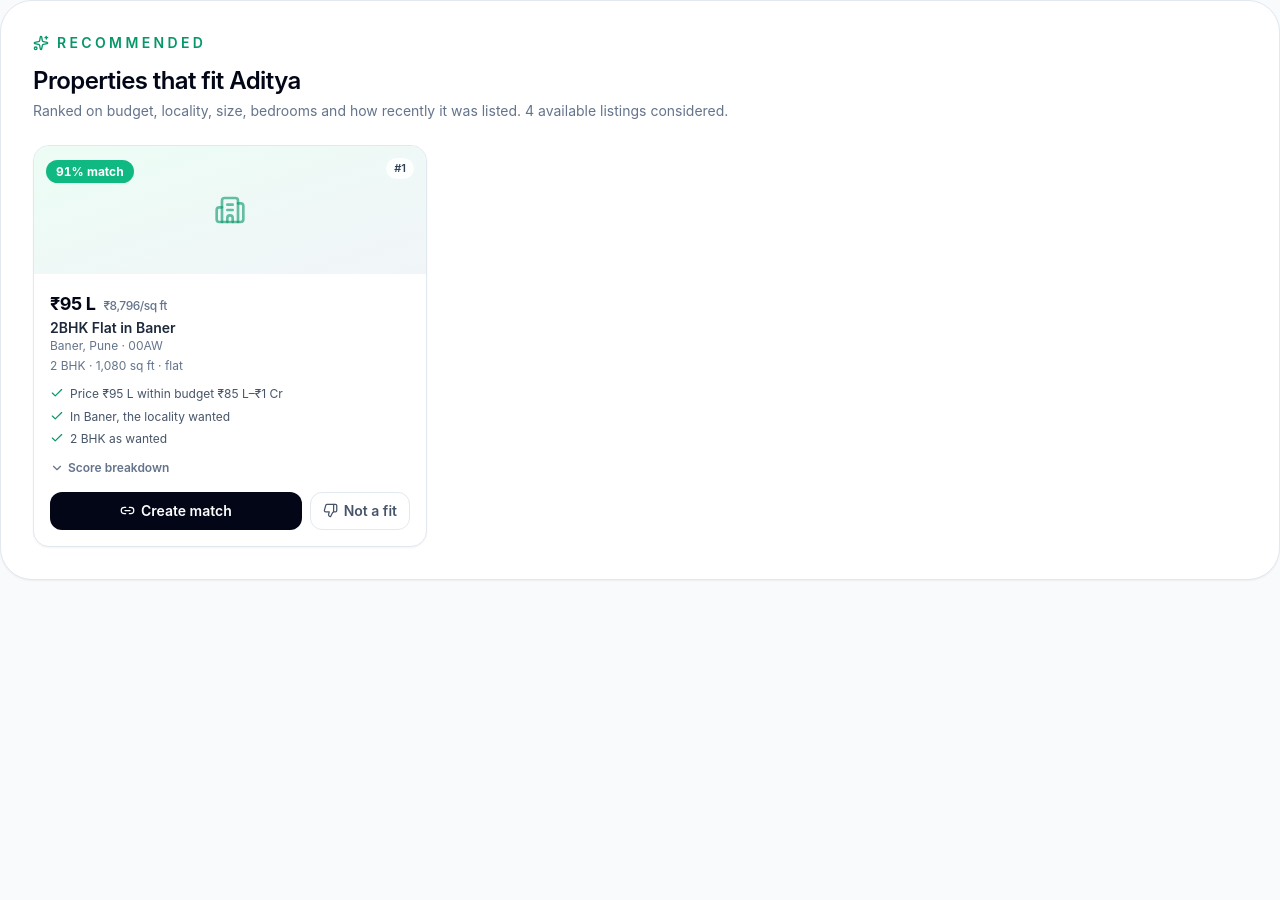
it: recommendations panel › shows the match score, price and the top reasons; details on demand
Expected: the text "91% match" is shown, [46,160,134,183]
Expected: the text "₹95 L" is shown, [50,293,95,314]
What coordinates should you click on to do the following:
click the button "Score breakdown"
I would click on:
 (110, 468)
Its box is [50,460,169,476].
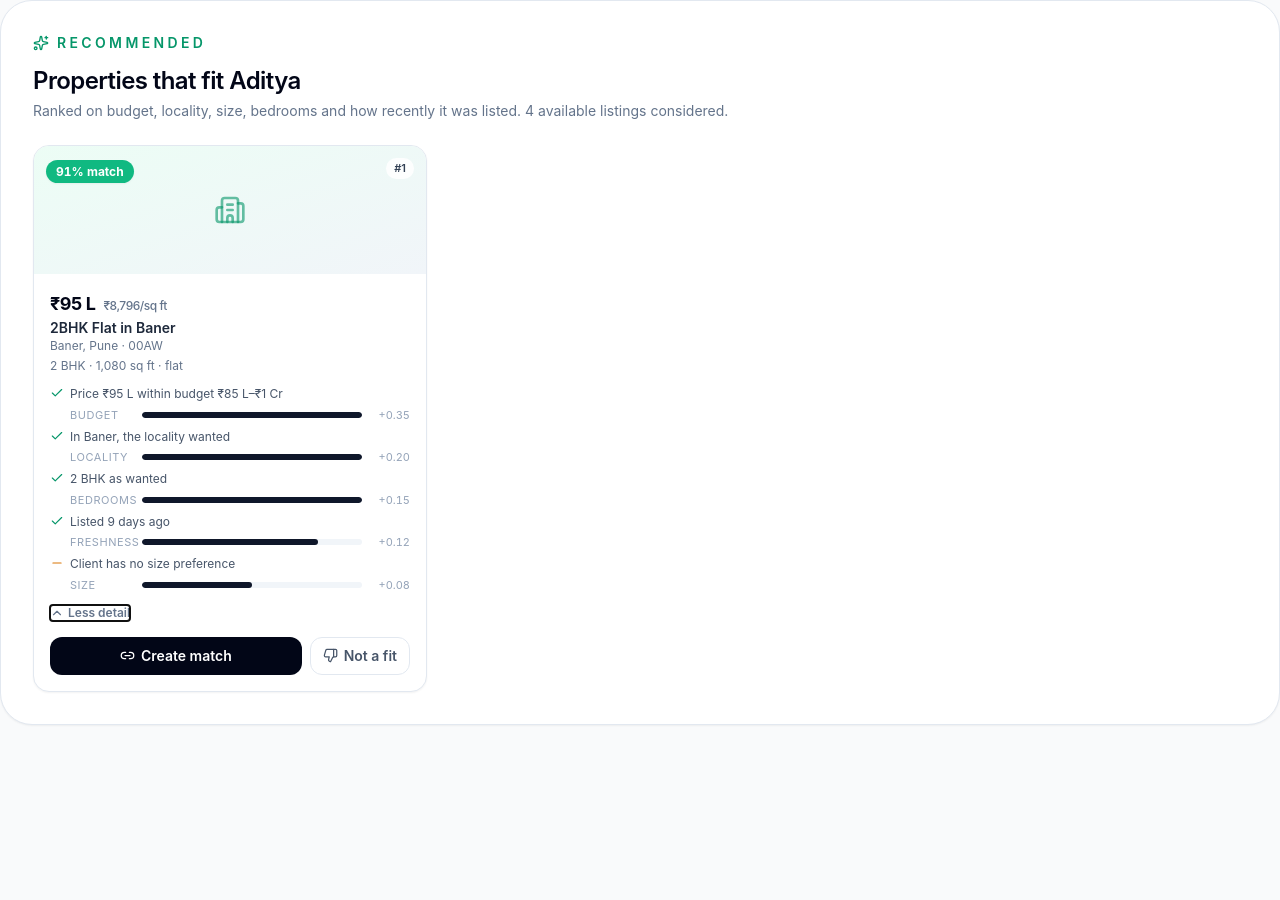
Now the text "Client has no size preference" is shown, box [70,556,235,572]
